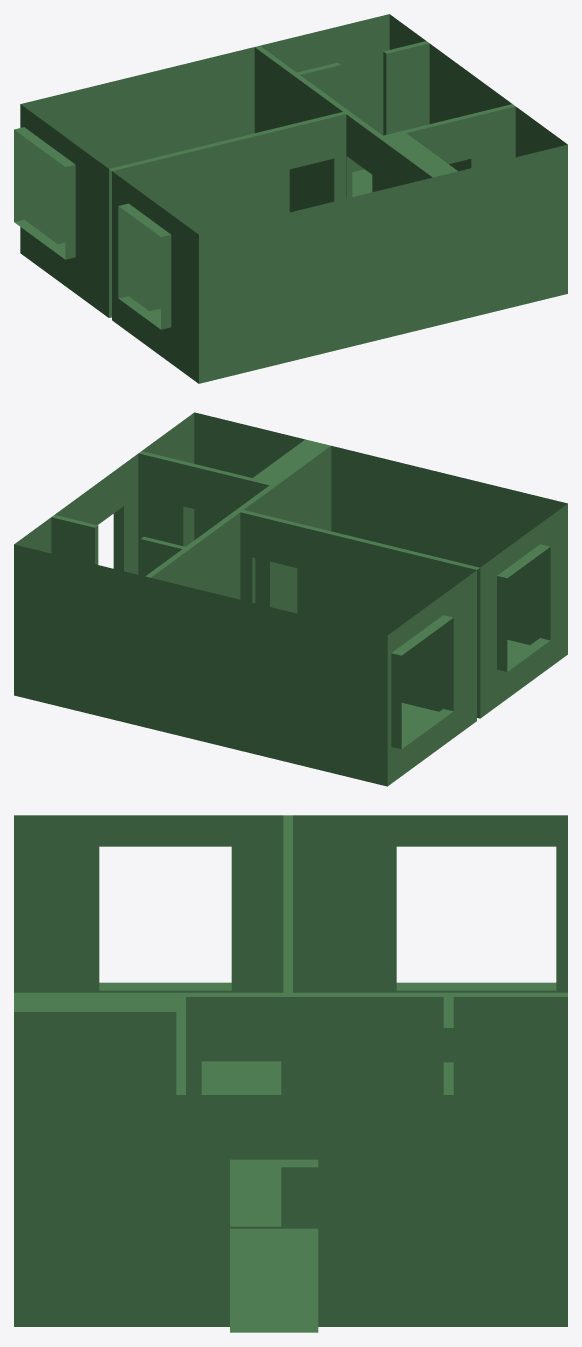
The model's file is Rooms_A_3_3_48.FBX.
3 views of the same model, one above another, from view 1: azimuth 30°, elevation 25°; view 2: azimuth 150°, elevation 25°; view 3: azimuth 270°, elevation 25° (orthographic). The views are drawn at different scales.
Visible parts, largest first — view 1: Rooms_A_3_3_48; view 2: Rooms_A_3_3_48; view 3: Rooms_A_3_3_48.
Part boxes in pixels (x1,y1,x2,y2): Rooms_A_3_3_48: (14,14,567,383); Rooms_A_3_3_48: (14,412,567,786); Rooms_A_3_3_48: (14,815,567,1332).
Size of the model in its own units: 7.65 by 2.8 by 6.06.
